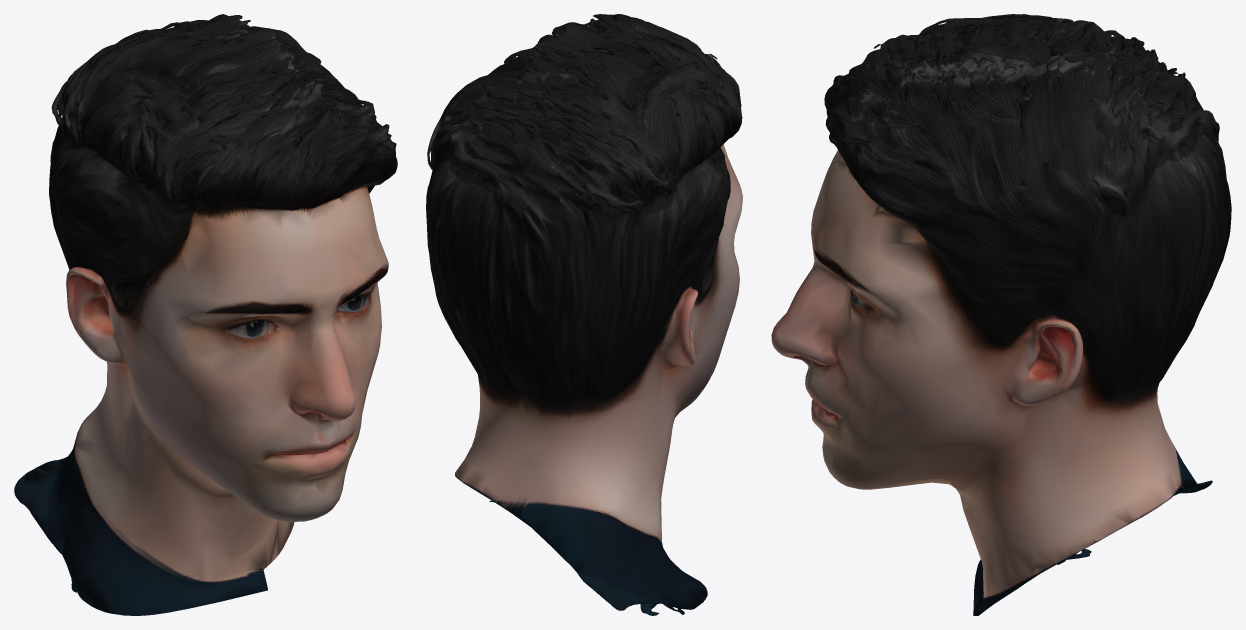
File: interactive-head.glb
3 views of the same model, side by side, from view 1: azimuth 30°, elevation 25°; view 2: azimuth 150°, elevation 25°; view 3: azimuth 270°, elevation 25° (orthographic). The views are drawn at different scales.
Visible parts, largest first — view 1: tripo_node_70dc08f2-5765-42f3-8a17-36dbb5edf19d; view 2: tripo_node_70dc08f2-5765-42f3-8a17-36dbb5edf19d; view 3: tripo_node_70dc08f2-5765-42f3-8a17-36dbb5edf19d.
Boxes of the visible parts, box(x1,y1,x2,y2) form: tripo_node_70dc08f2-5765-42f3-8a17-36dbb5edf19d: box(14, 14, 397, 615); tripo_node_70dc08f2-5765-42f3-8a17-36dbb5edf19d: box(426, 14, 742, 615); tripo_node_70dc08f2-5765-42f3-8a17-36dbb5edf19d: box(771, 14, 1231, 615).
Bounding box in the file's own units: 0.5122 × 0.9995 × 0.7276.
Materials: 1 (1 with a texture image).
